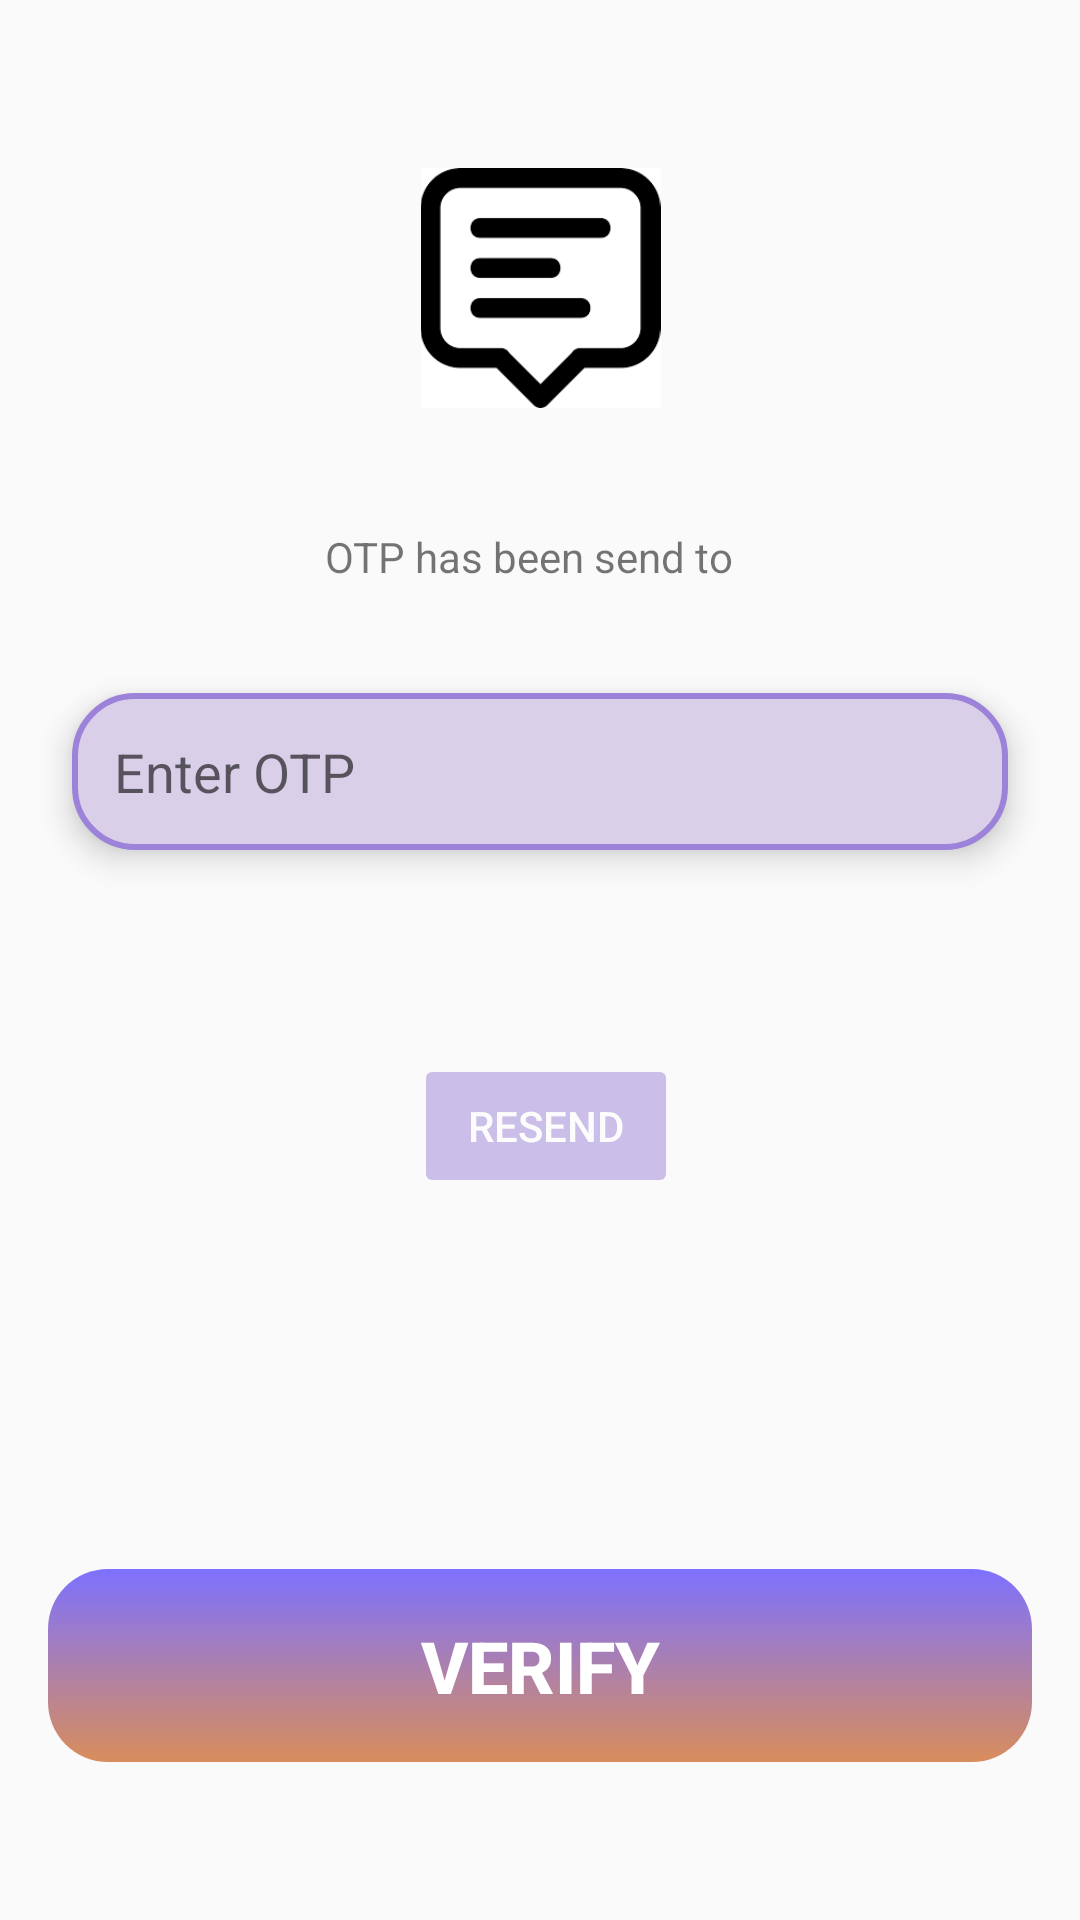

Screen size 1080×1920. Icon name, then its box in pixels as (x1, y1, x2, y2):
chat: (421, 168, 661, 408)
